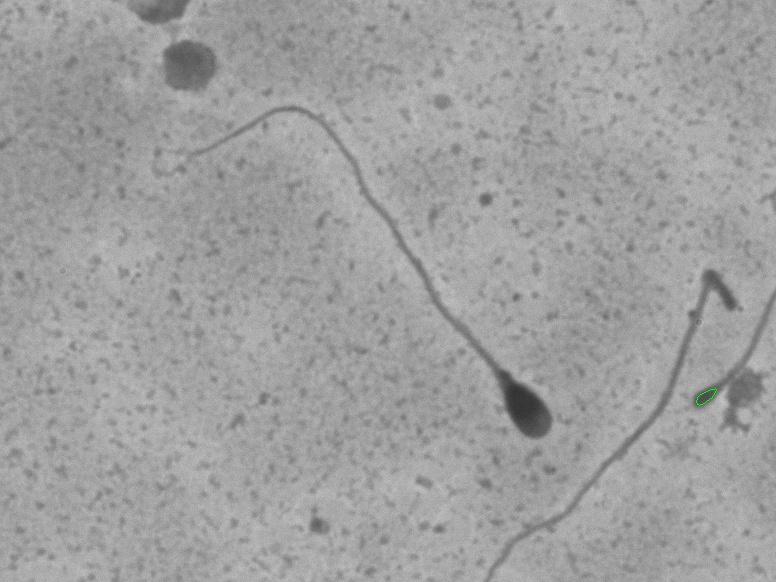Normal: (148, 101, 565, 463)
